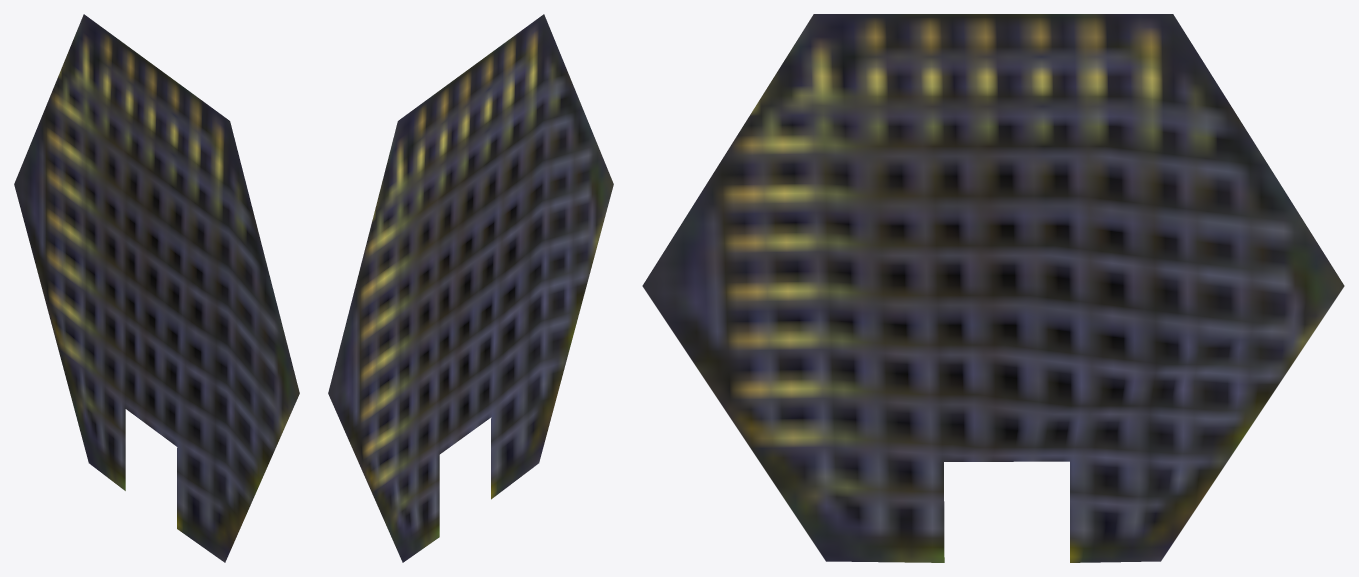
3 renders of one model, left to right at view 1: azimuth 30°, elevation 25°; view 2: azimuth 150°, elevation 25°; view 3: azimuth 270°, elevation 25°, orthographic. The views are drawn at different scales.
Visible parts, largest first — view 1: Object01; view 2: Object01; view 3: Object01.
Boxes of the visible parts, x1,y1,x2,y2 form: Object01: (14, 14, 299, 562); Object01: (328, 14, 613, 562); Object01: (642, 14, 1344, 562).
Bounding box in the file's own units: 0 × 637 × 738.
1 material, 1 textured.
